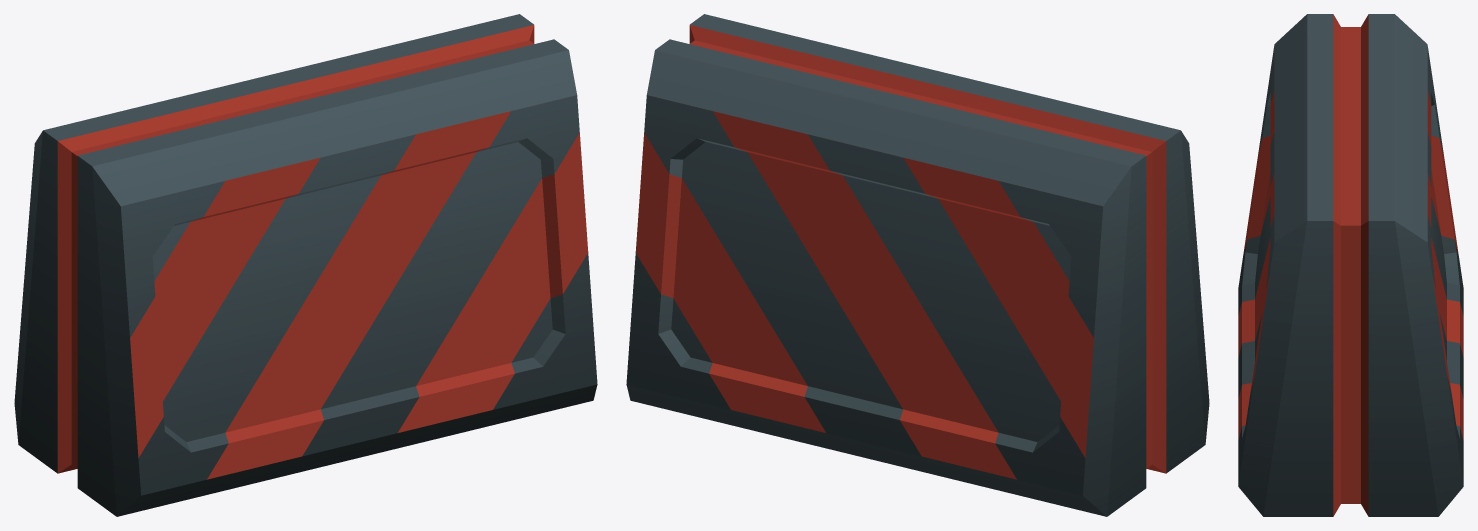
The model's file is Barriaer_001.glb.
3 views of the same model, side by side, from view 1: azimuth 30°, elevation 25°; view 2: azimuth 150°, elevation 25°; view 3: azimuth 270°, elevation 25° (orthographic). The views are drawn at different scales.
Visible parts, largest first — view 1: Barriaer_001; view 2: Barriaer_001; view 3: Barriaer_001.
Part boxes in pixels (left/top/right/bottom): Barriaer_001: left=14, top=14, right=597, bottom=516; Barriaer_001: left=626, top=14, right=1209, bottom=516; Barriaer_001: left=1238, top=14, right=1463, bottom=516.
Bounding box in the file's own units: 1.2 × 0.8 × 0.5521.
Materials: 1 (1 with a texture image).
